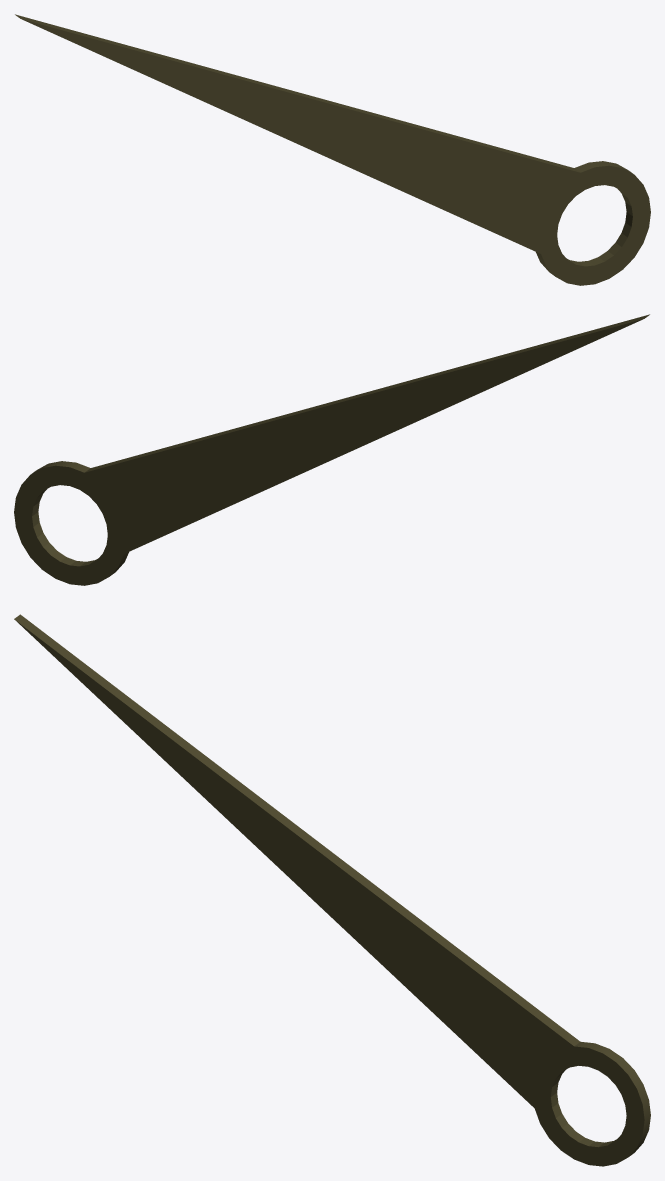
Rendered from original-1.obj.
3 views of the same model, one above another, from view 1: azimuth 30°, elevation 25°; view 2: azimuth 150°, elevation 25°; view 3: azimuth 330°, elevation 25° (orthographic).
Visible parts, largest first — view 1: Component_6_1/Component_6/mesh1/mesh1-geometry#mesh1-geometry; view 2: Component_6_1/Component_6/mesh1/mesh1-geometry#mesh1-geometry; view 3: Component_6_1/Component_6/mesh1/mesh1-geometry#mesh1-geometry.
Boxes of the visible parts, x1=… form: Component_6_1/Component_6/mesh1/mesh1-geometry#mesh1-geometry: x1=15, y1=14, x2=650, y2=285; Component_6_1/Component_6/mesh1/mesh1-geometry#mesh1-geometry: x1=14, y1=314, x2=649, y2=585; Component_6_1/Component_6/mesh1/mesh1-geometry#mesh1-geometry: x1=14, y1=614, x2=650, y2=1166.
Size of the model in its own units: 0.2941 by 0.1808 by 0.00516.
